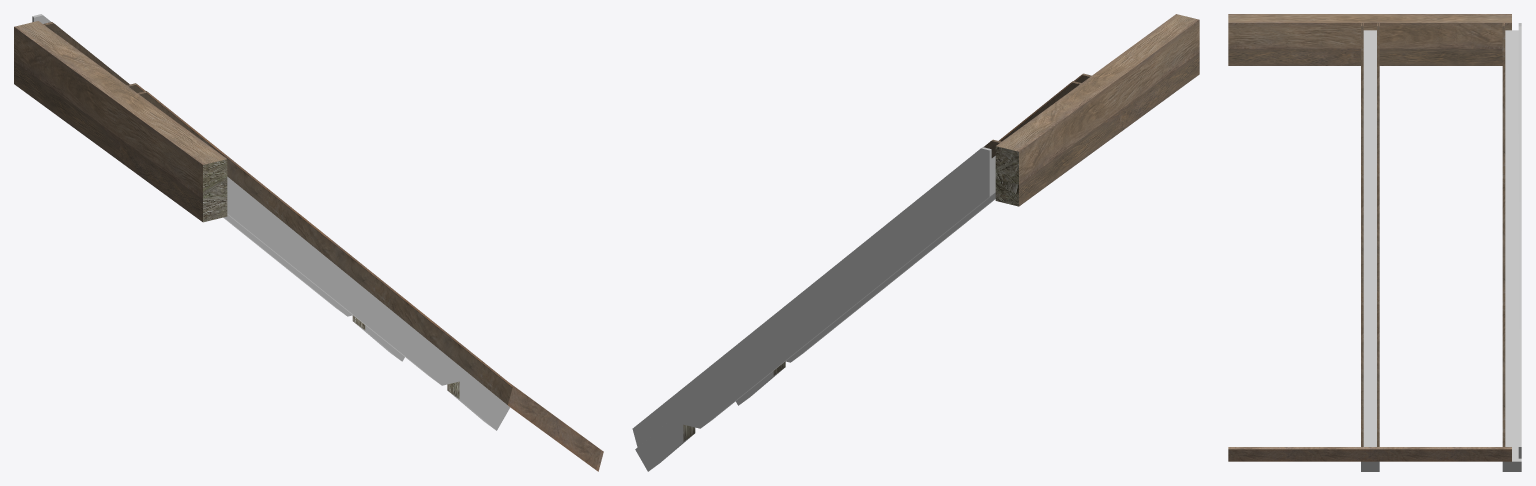
Rendered from RafterMidE.fbx.
3 renders of one model, left to right at view 1: azimuth 30°, elevation 25°; view 2: azimuth 150°, elevation 25°; view 3: azimuth 270°, elevation 25°, orthographic. The views are drawn at different scales.
Parts seen in each view (by area): view 1: RafterMidE; view 2: RafterMidE; view 3: RafterMidE.
Part boxes in pixels (x1=…): RafterMidE: x1=14, y1=14, x2=603, y2=471; RafterMidE: x1=632, y1=14, x2=1199, y2=471; RafterMidE: x1=1228, y1=14, x2=1521, y2=471.
Bounding box in the file's own units: 495 × 500 × 418.
